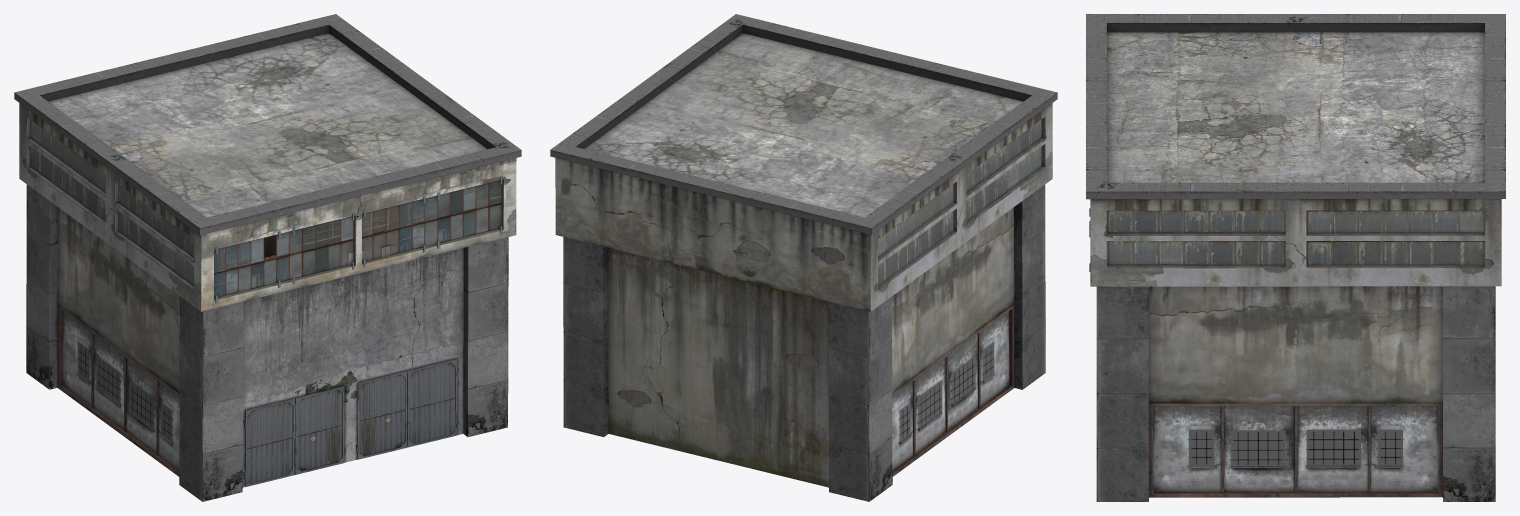
The picture shows the model from 3 angles, left to right: view 1: azimuth 30°, elevation 25°; view 2: azimuth 150°, elevation 25°; view 3: azimuth 270°, elevation 25°; orthographic projection. The views are drawn at different scales.
Parts seen in each view (by area): view 1: b6; view 2: b6; view 3: b6.
Part boxes in pixels (x1=…): b6: x1=14, y1=14, x2=521, y2=501; b6: x1=550, y1=14, x2=1057, y2=501; b6: x1=1086, y1=14, x2=1505, y2=501.
Size of the model in its own units: 12.97 by 10.75 by 12.97.
1 material, 1 textured.
